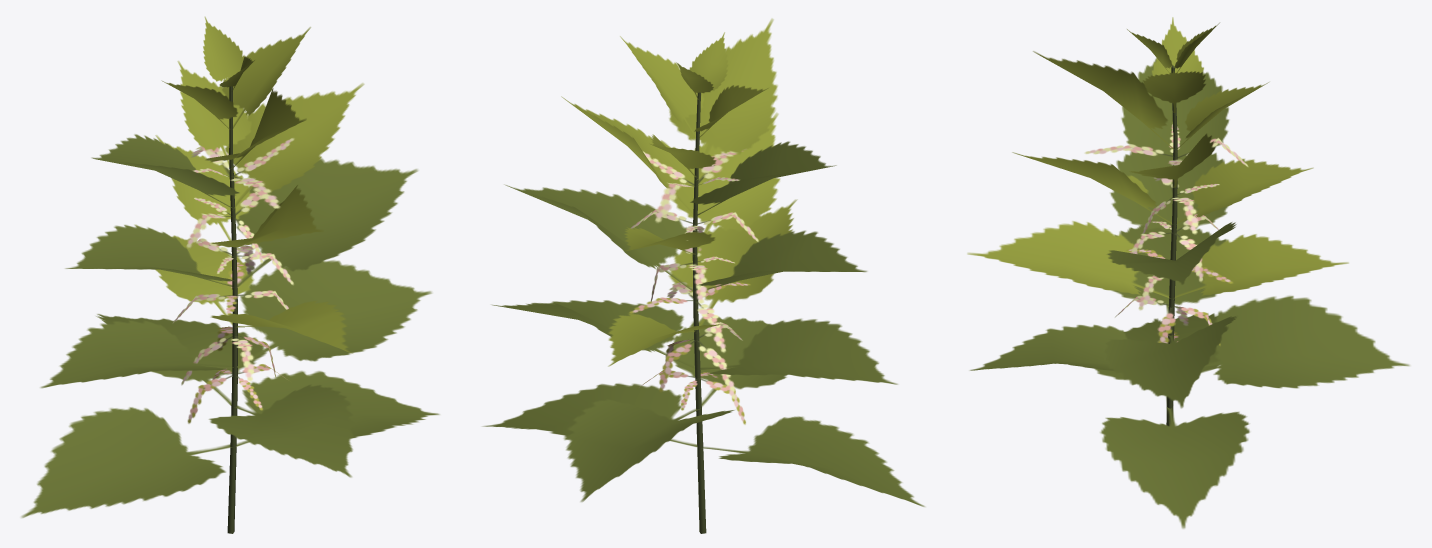
File: Stinging_Nettle_3.glb
3 renders of one model, left to right at view 1: azimuth 30°, elevation 25°; view 2: azimuth 150°, elevation 25°; view 3: azimuth 270°, elevation 25°, orthographic. The views are drawn at different scales.
Visible parts, largest first — view 1: Stinging_Nettle_3; view 2: Stinging_Nettle_3; view 3: Stinging_Nettle_3.
Part boxes in pixels (x1,y1,x2,y2): Stinging_Nettle_3: (21, 16, 439, 533); Stinging_Nettle_3: (482, 18, 924, 533); Stinging_Nettle_3: (967, 17, 1409, 528).
Bounding box in the file's own units: 0.879 × 0.9352 × 0.8324.
1 material, 1 textured.
